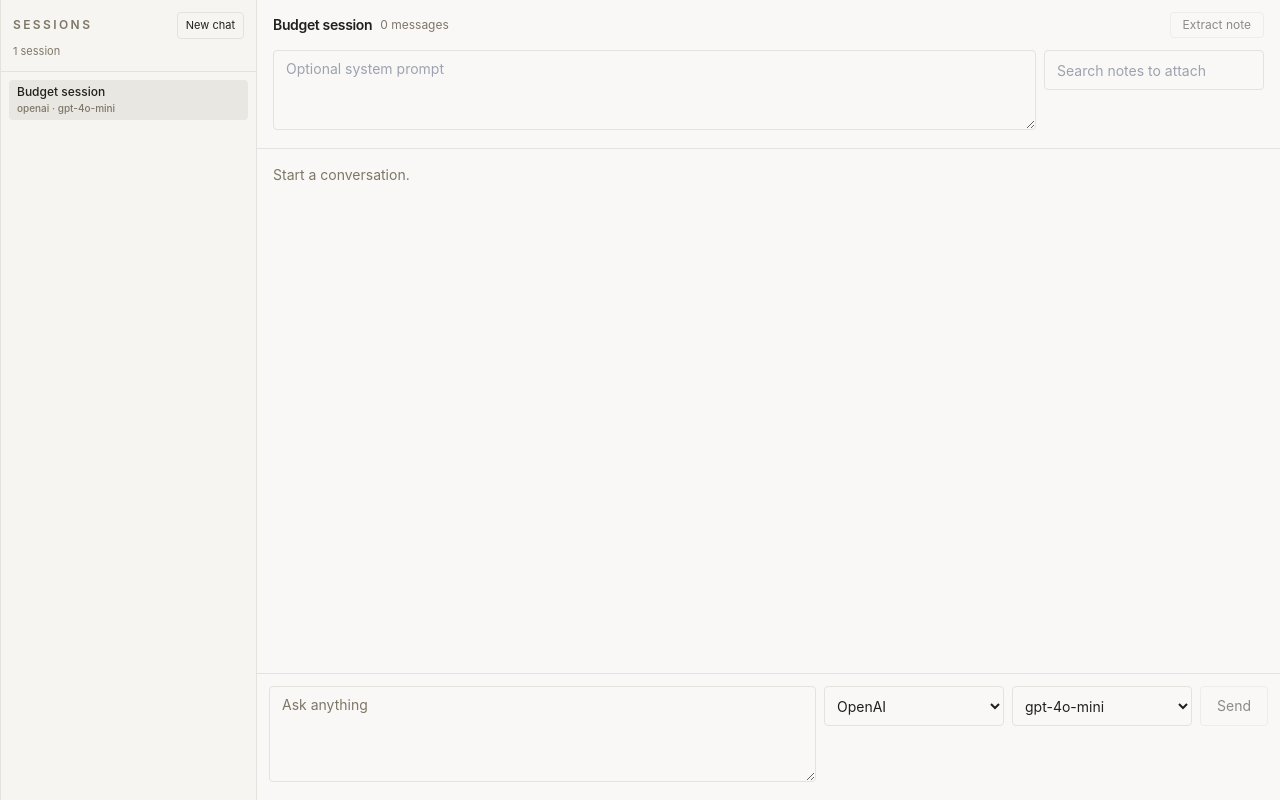
Test: ChatPanel › warns when the assembled prompt exceeds the token budget
The image size is (1280, 800).
expect the button "Budget session openai · gpt-4o-mini" is shown: met, box [9,80,248,120]
Select "Anthropic" in the dropdown named "Provider": coordinates (914, 706) [824,686,1004,726]
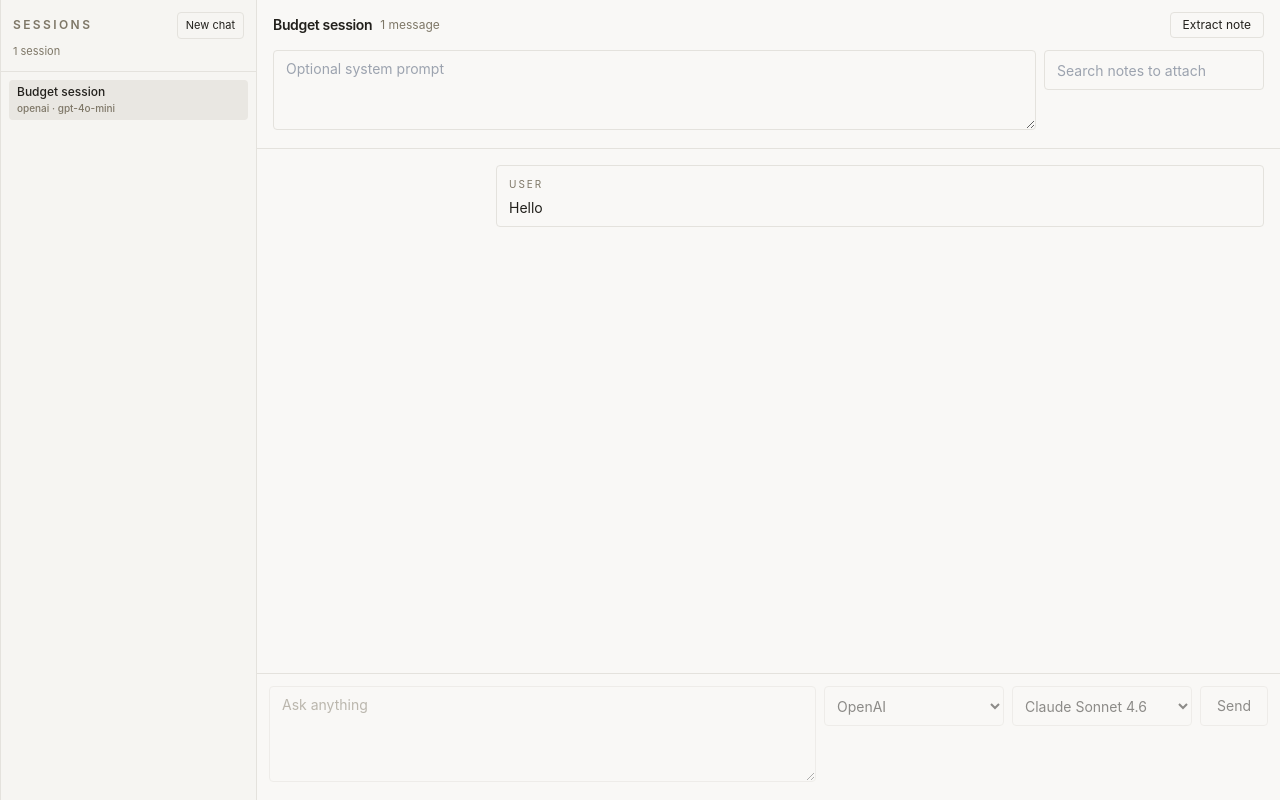
In the field named "Attachment search": coordinates (1154, 70) [1044,50,1264,90], type "long"
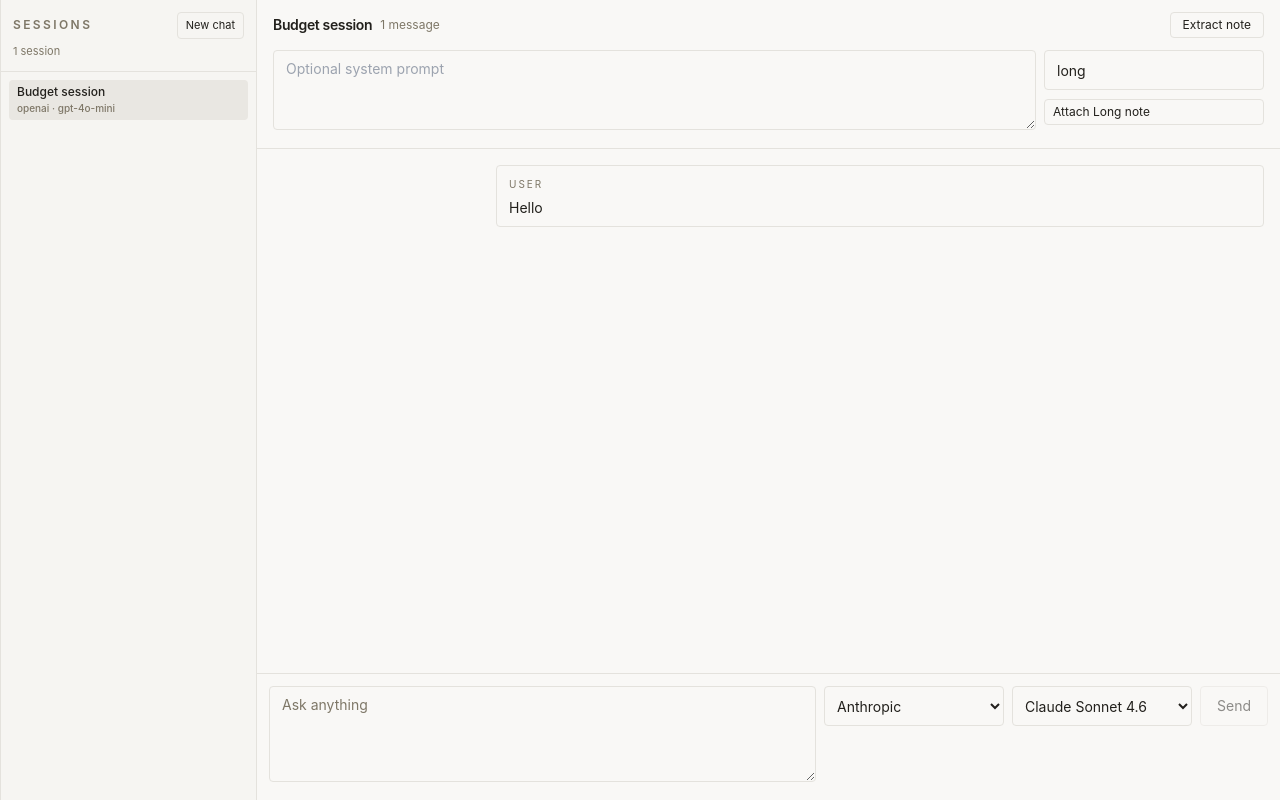
Click the button "Attach Long note": coordinates (1154, 112) [1044,99,1264,125]
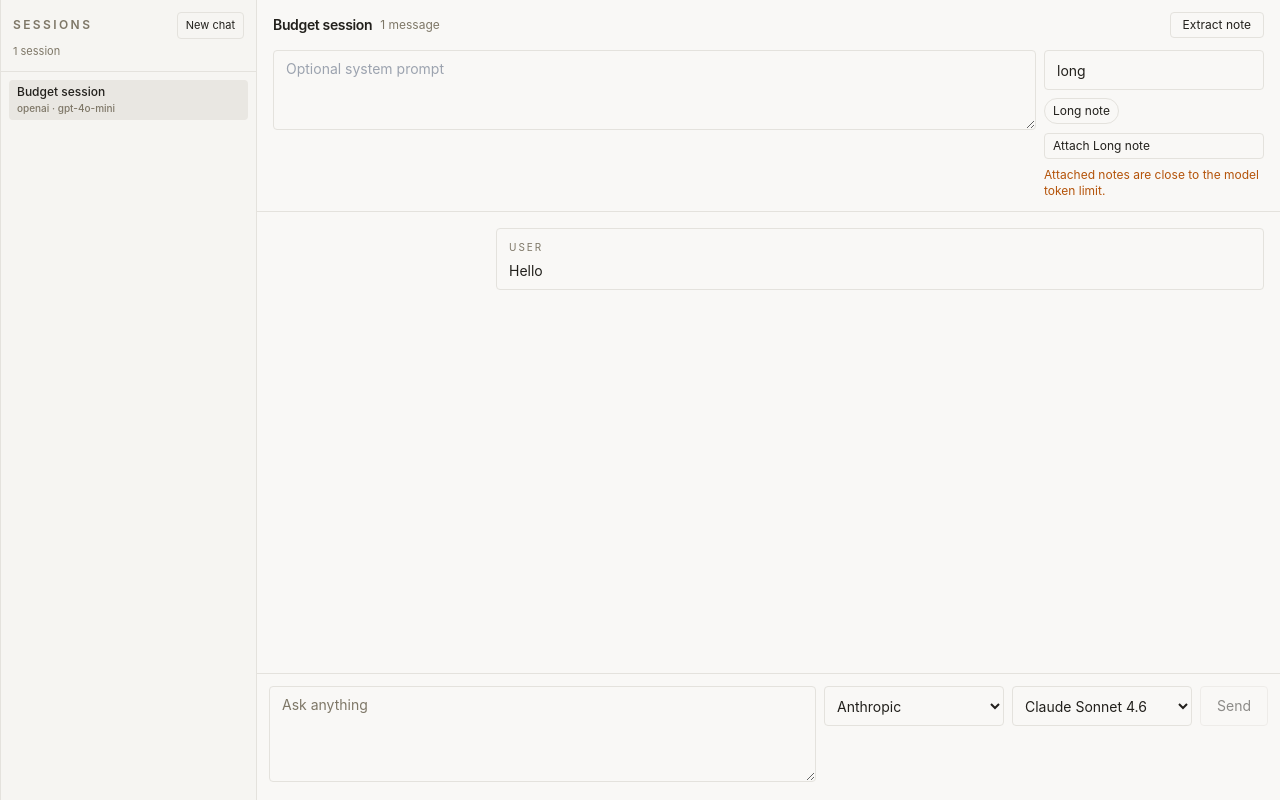
expect the text "Attached notes are close to the model token limit." is shown: met, box [1044,167,1264,199]
